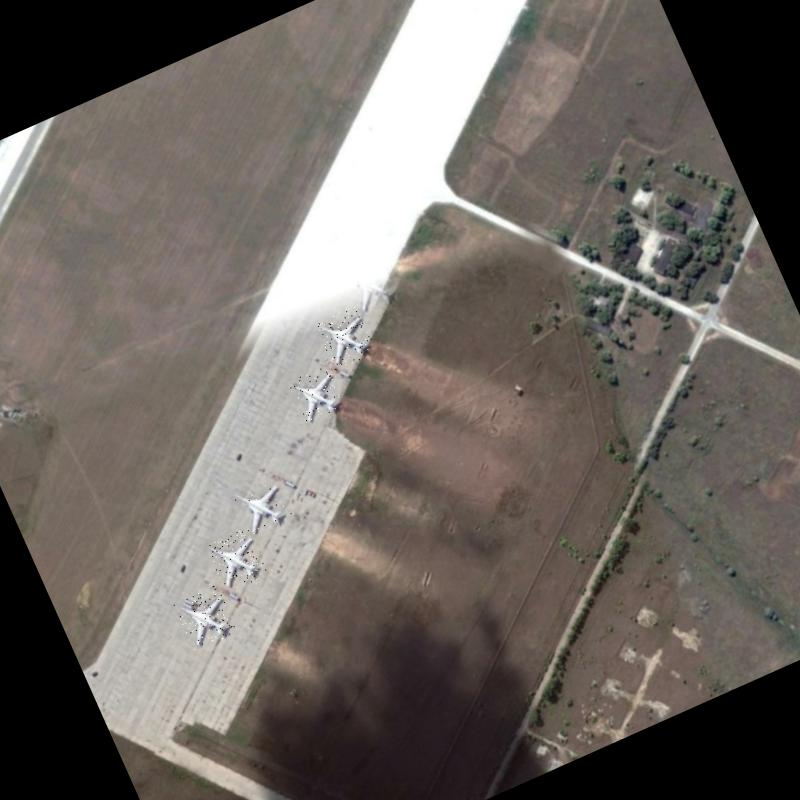A6: (174, 584, 239, 652), (206, 526, 270, 594), (230, 474, 294, 539), (314, 306, 378, 370), (287, 364, 347, 428)
